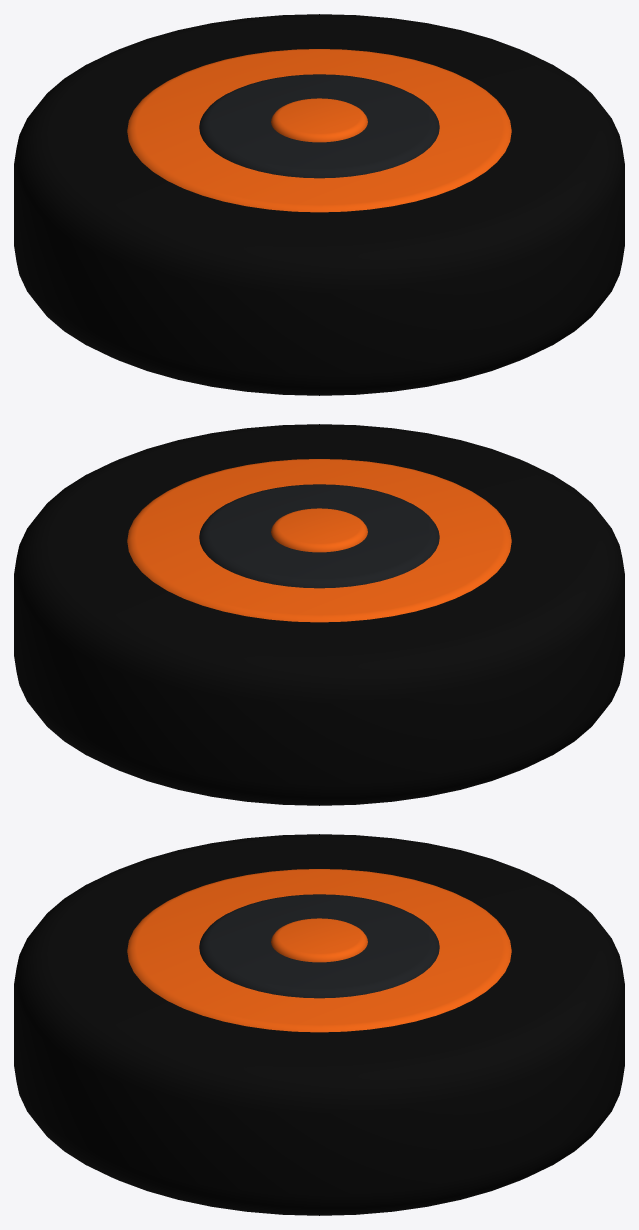
Rendered from drive_left_wheel_link_visual.obj.
3 views of the same model, one above another, from view 1: azimuth 30°, elevation 25°; view 2: azimuth 150°, elevation 25°; view 3: azimuth 270°, elevation 25° (orthographic).
Visible parts, largest first — view 1: drive_left_wheel_link_visual.001; view 2: drive_left_wheel_link_visual.001; view 3: drive_left_wheel_link_visual.001.
Boxes of the visible parts, x1,y1,x2,y2 form: drive_left_wheel_link_visual.001: [14, 14, 624, 395]; drive_left_wheel_link_visual.001: [14, 424, 624, 805]; drive_left_wheel_link_visual.001: [14, 834, 624, 1215].
Size of the model in its own units: 0.15 by 0.048 by 0.15.
